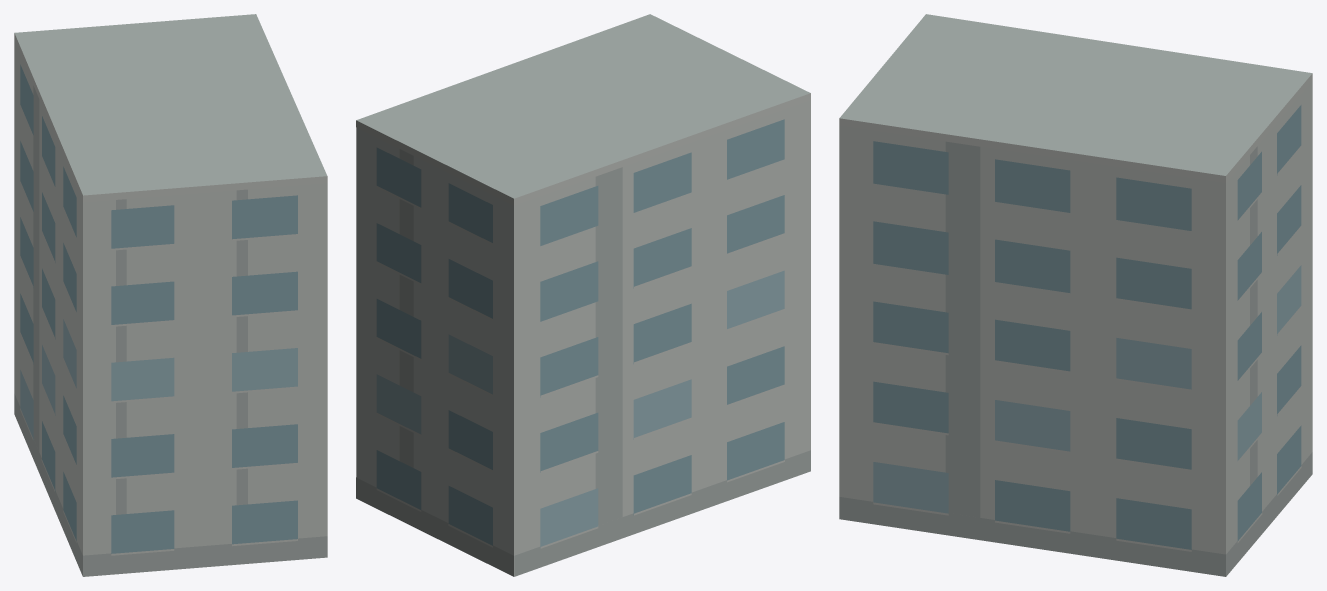
File: survey-upis-32890098.glb
The picture shows the model from 3 angles, left to right: view 1: azimuth 30°, elevation 25°; view 2: azimuth 150°, elevation 25°; view 3: azimuth 270°, elevation 25°; orthographic projection. The views are drawn at different scales.
Visible parts, largest first — view 1: survey-upis-32890098.tmp; view 2: survey-upis-32890098.tmp; view 3: survey-upis-32890098.tmp.
Part boxes in pixels (x1,y1,x2,y2): survey-upis-32890098.tmp: (14,14,327,576); survey-upis-32890098.tmp: (356,14,810,576); survey-upis-32890098.tmp: (839,14,1312,576).
Size of the model in its own units: 11.45 by 13.2 by 14.14.
